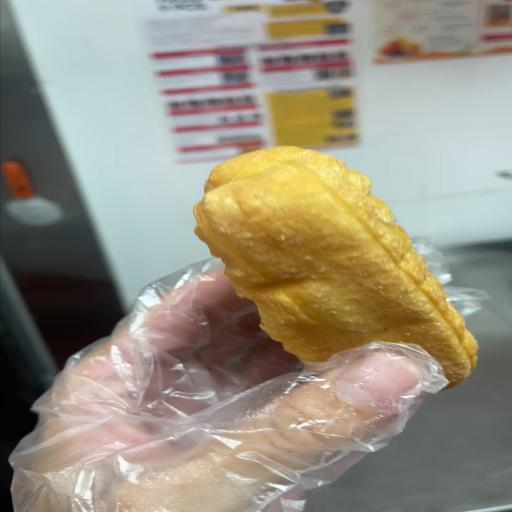brand_golden_good: (194, 147, 477, 386)
